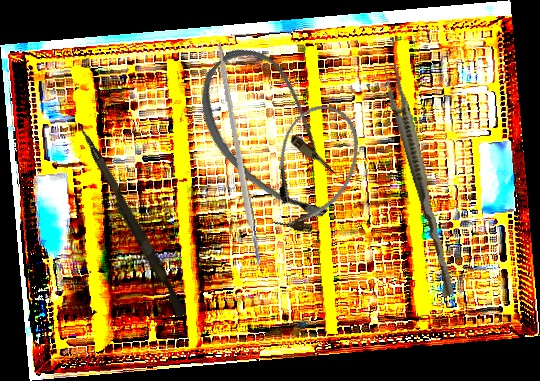Cannula: (174, 33, 376, 236), (254, 95, 373, 243)
Pusher: (70, 123, 192, 319)
Scalpel Handle: (214, 41, 263, 268)
Tissue Forceps: (377, 63, 464, 298)
